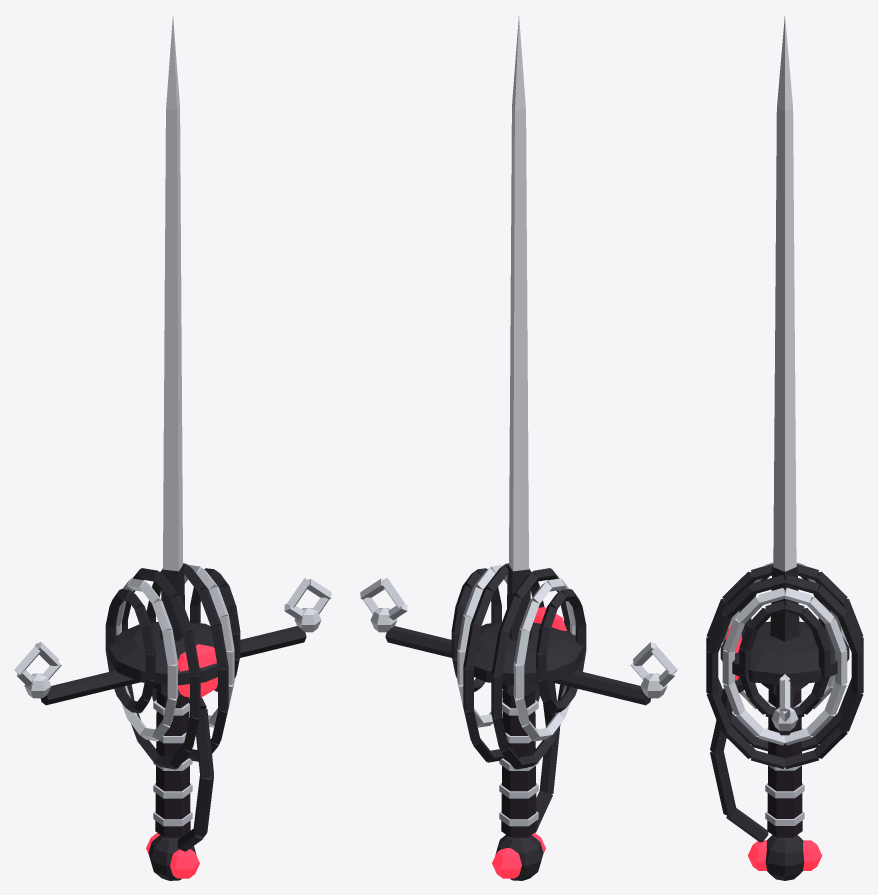
File: countess_rapier.glb
3 views of the same model, side by side, from view 1: azimuth 30°, elevation 25°; view 2: azimuth 150°, elevation 25°; view 3: azimuth 270°, elevation 25° (orthographic).
Visible parts, largest first — view 1: countess_rapier; view 2: countess_rapier; view 3: countess_rapier.
Part boxes in pixels (<box>): countess_rapier: <box>14,16,331,880</box>; countess_rapier: <box>360,16,677,880</box>; countess_rapier: <box>706,16,863,880</box>.
Size of the model in its own units: 0.5404 by 1.41 by 0.2325.
